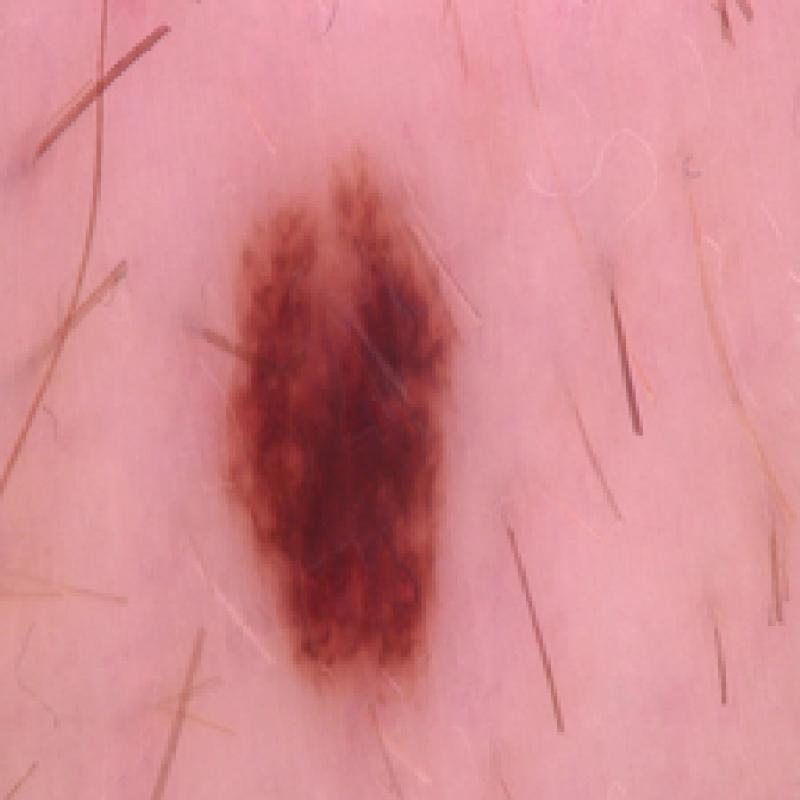benign: (197, 129, 478, 701)
